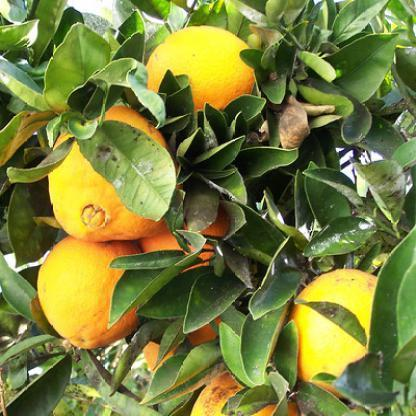lemon: (49, 104, 168, 241), (135, 212, 231, 345), (36, 235, 145, 350), (288, 268, 380, 399), (146, 25, 256, 112), (190, 368, 300, 416)
